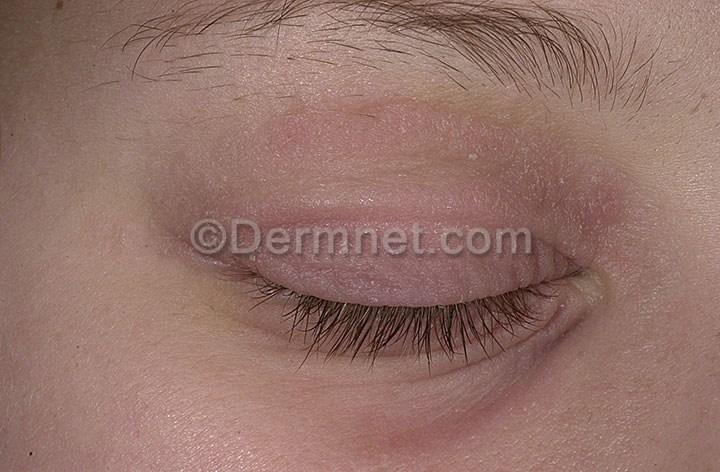Eczema: (204, 89, 667, 469)
